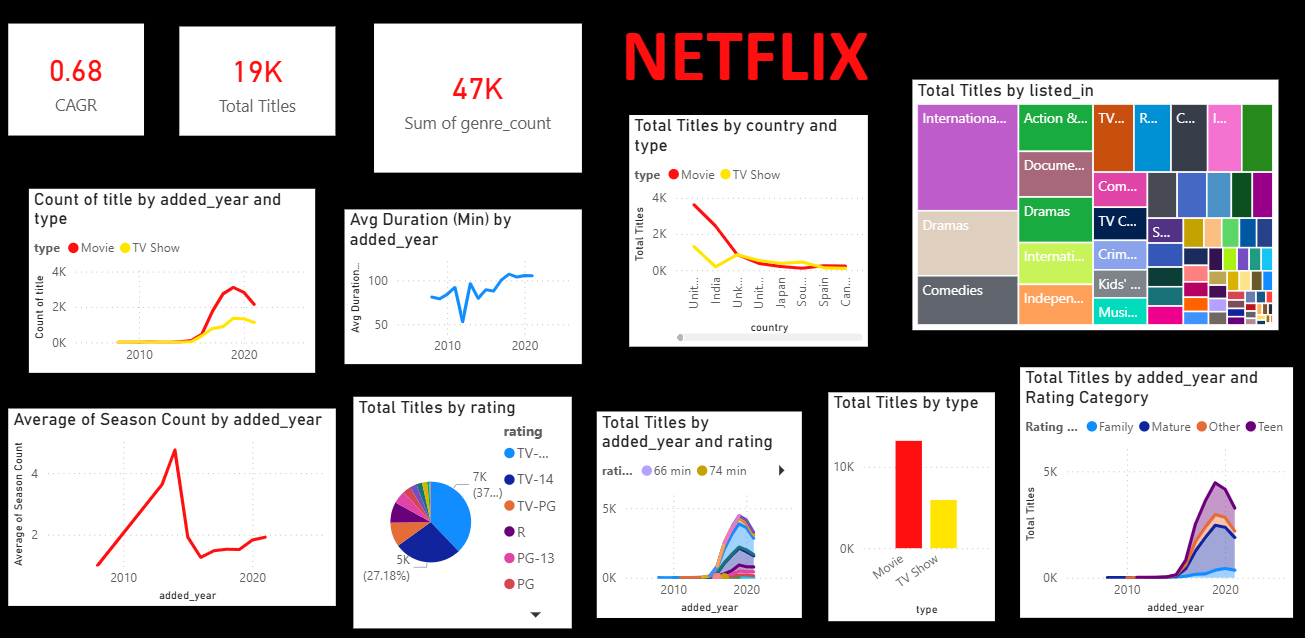

This screenshot's page, from the dashboard's own definition file:
{"tool":"powerbi","page":{"name":"Page 1","canvas":[1280,720],"ordinal":0},"visuals":[{"type":"lineChart","fields":{"Category":["Sheet1.added_year"],"Y":["CountNonNull(Sheet1.title)"],"Series":["Sheet1.type"]},"box":[35.7,185.7,277.1,178.6],"z":0},{"type":"card","fields":{"Values":["Sheet1.CAGR"]},"box":[15.7,25.7,131.4,108.6],"z":1000},{"type":"lineChart","fields":{"Category":["Sheet1.added_year"],"Y":["Avg(Sheet1.Season Count)"]},"box":[15.7,398.6,317.1,191.4],"z":2000},{"type":"columnChart","fields":{"Category":["Sheet1.type"],"Y":["Sheet1.Total Titles"]},"box":[810,382.9,161.4,221.4],"z":3000},{"type":"pieChart","fields":{"Y":["Sheet1.Total Titles"],"Category":["Sheet1.rating"]},"box":[350,387.1,211.4,224.3],"z":4000},{"type":"stackedAreaChart","fields":{"Category":["Sheet1.added_year"],"Y":["Sheet1.Total Titles"],"Series":["Sheet1.rating"]},"box":[585.7,401.4,198.6,200],"z":5000},{"type":"lineChart","fields":{"Category":["Sheet1.country"],"Y":["Sheet1.Total Titles"],"Series":["Sheet1.type"]},"box":[617.1,114.3,231.4,224.3],"z":6000},{"type":"lineChart","fields":{"Category":["Sheet1.added_year"],"Y":["Sheet1.Avg Duration (Min)"]},"box":[341.4,205.7,230,150],"z":7000},{"type":"stackedAreaChart","fields":{"Category":["Sheet1.added_year"],"Y":["Sheet1.Total Titles"],"Series":["Sheet1.Rating Category"]},"box":[995.7,358.6,264.3,242.9],"z":8000},{"type":"treemap","fields":{"Values":["Sheet1.Total Titles"],"Group":["Sheet1.listed_in"]},"box":[891.4,80,354.3,242.9],"z":9000},{"type":"textbox","box":[664.3,7.1,267.1,97.1],"z":10000},{"type":"card","fields":{"Values":["Sheet1.Total Titles"]},"box":[181.4,28.6,151.4,105.7],"z":11000},{"type":"card","fields":{"Values":["Sum(Sheet1.genre_count)"]},"box":[370,25.7,201.4,144.3],"z":12000},{"type":"textbox","box":[604.3,7.1,300,300],"z":12001}]}

Visuals, with their boxes on the page's 1280x720 design canvas (x1, y1, x2, y2). These are canvas units, not pixel positions in the 1305x638 screenshot, which may show the page scaled, cropped or inside an application window:
lineChart - Sheet1.added_year x CountNonNull(Sheet1.title): crop(36, 186, 313, 364)
card - Sheet1.CAGR: crop(16, 26, 147, 134)
lineChart - Sheet1.added_year x Avg(Sheet1.Season Count): crop(16, 399, 333, 590)
columnChart - Sheet1.type x Sheet1.Total Titles: crop(810, 383, 971, 604)
pieChart - Sheet1.Total Titles x Sheet1.rating: crop(350, 387, 561, 611)
stackedAreaChart - Sheet1.added_year x Sheet1.Total Titles: crop(586, 401, 784, 601)
lineChart - Sheet1.country x Sheet1.Total Titles: crop(617, 114, 848, 339)
lineChart - Sheet1.added_year x Sheet1.Avg Duration (Min): crop(341, 206, 571, 356)
stackedAreaChart - Sheet1.added_year x Sheet1.Total Titles: crop(996, 359, 1260, 602)
treemap - Sheet1.Total Titles x Sheet1.listed_in: crop(891, 80, 1246, 323)
textbox: crop(664, 7, 931, 104)
card - Sheet1.Total Titles: crop(181, 29, 333, 134)
card - Sum(Sheet1.genre_count): crop(370, 26, 571, 170)
textbox: crop(604, 7, 904, 307)
